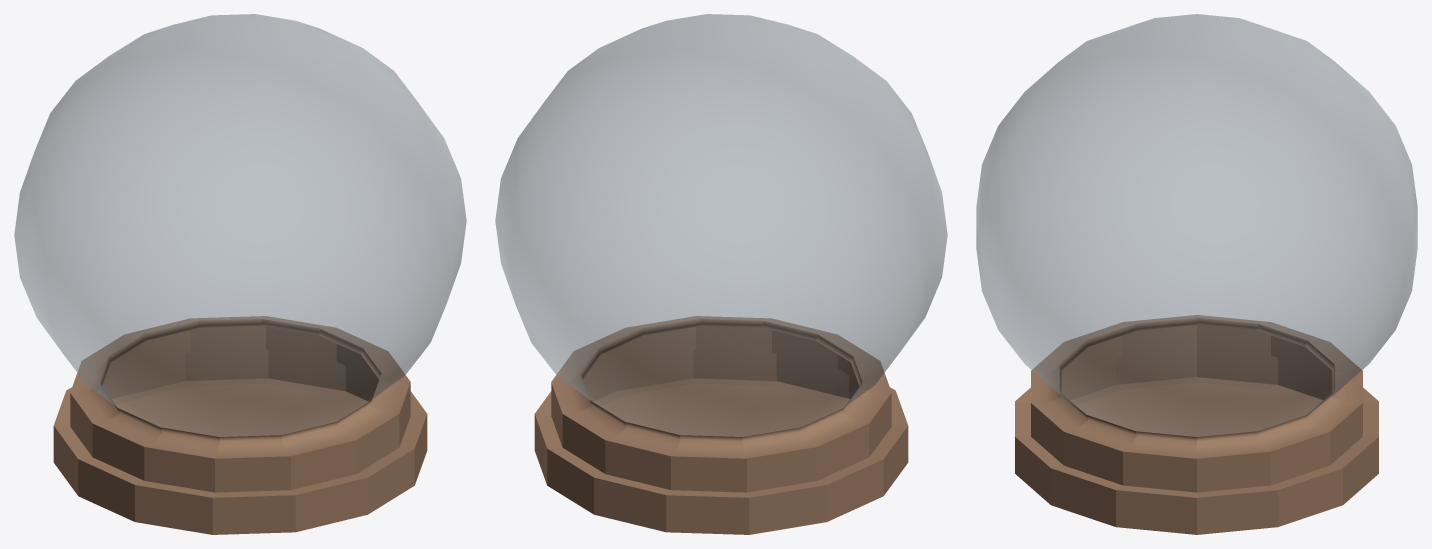
Rendered from AlekCrysBall.fbx.
The picture shows the model from 3 angles, left to right: view 1: azimuth 30°, elevation 25°; view 2: azimuth 150°, elevation 25°; view 3: azimuth 270°, elevation 25°; orthographic projection.
Visible parts, largest first — view 1: pSphere1; view 2: pSphere1; view 3: pSphere1.
Part boxes in pixels (bbox=[...]): pSphere1: bbox=[14, 14, 466, 534]; pSphere1: bbox=[495, 14, 947, 534]; pSphere1: bbox=[976, 14, 1417, 534].
Bounding box in the file's own units: 3.71 × 3.8 × 3.62.
